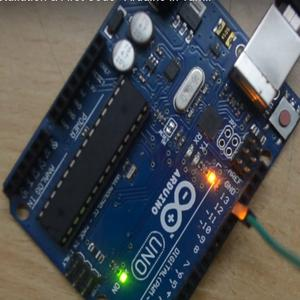duino: (3, 0, 300, 300)
